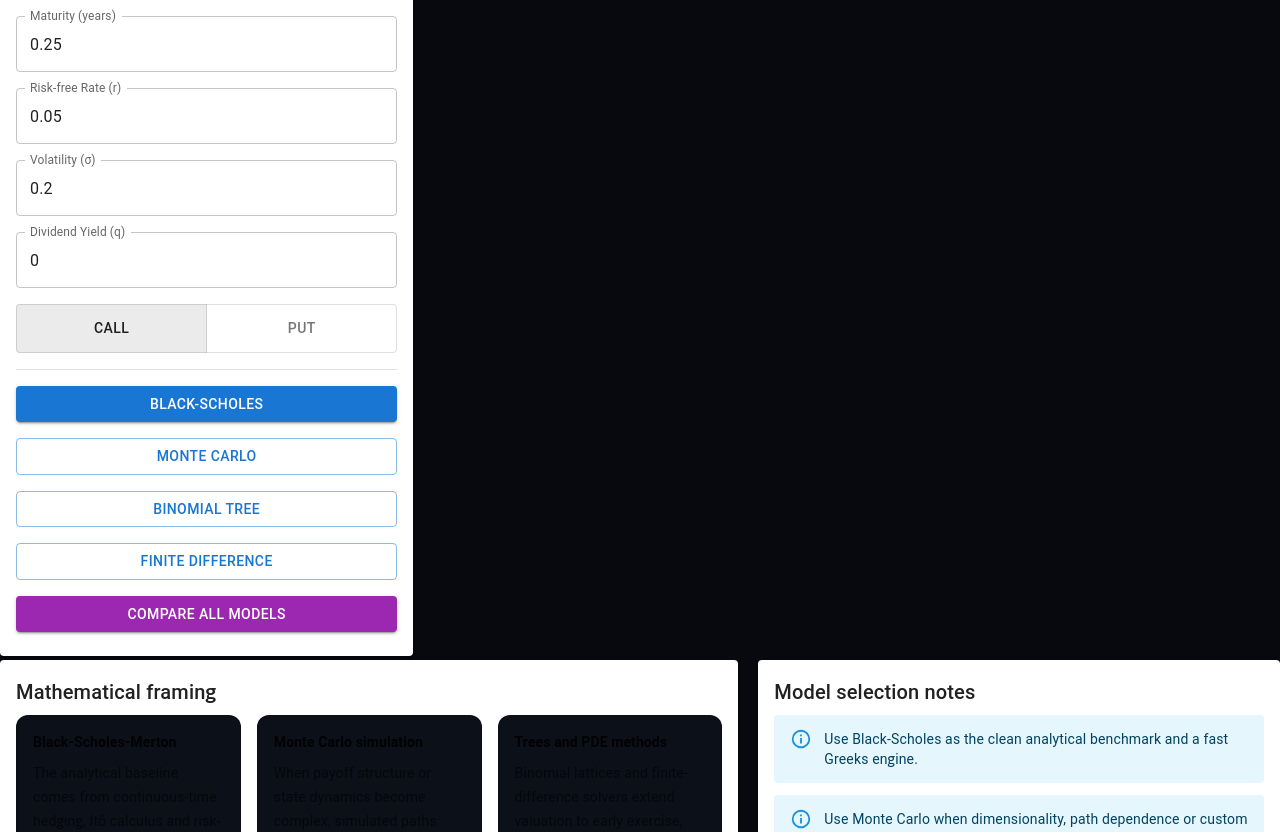
PricingPage flow › surfaces engine errors instead of hanging
(page scrolled)
Click the button "Black-Scholes": (207, 404) left=16, top=386, right=397, bottom=422
(page scrolled)
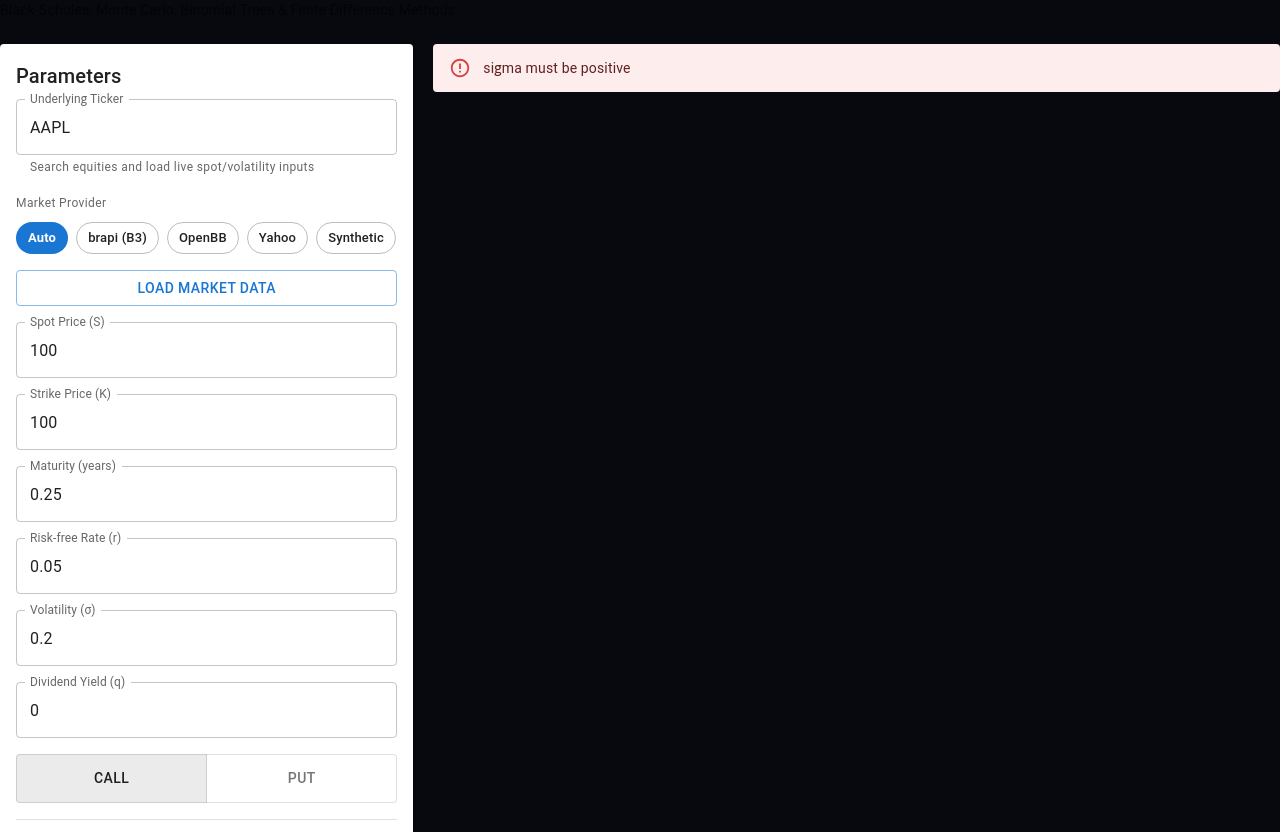
Check: the text "sigma must be positive" is shown, box left=483, top=60, right=631, bottom=76
